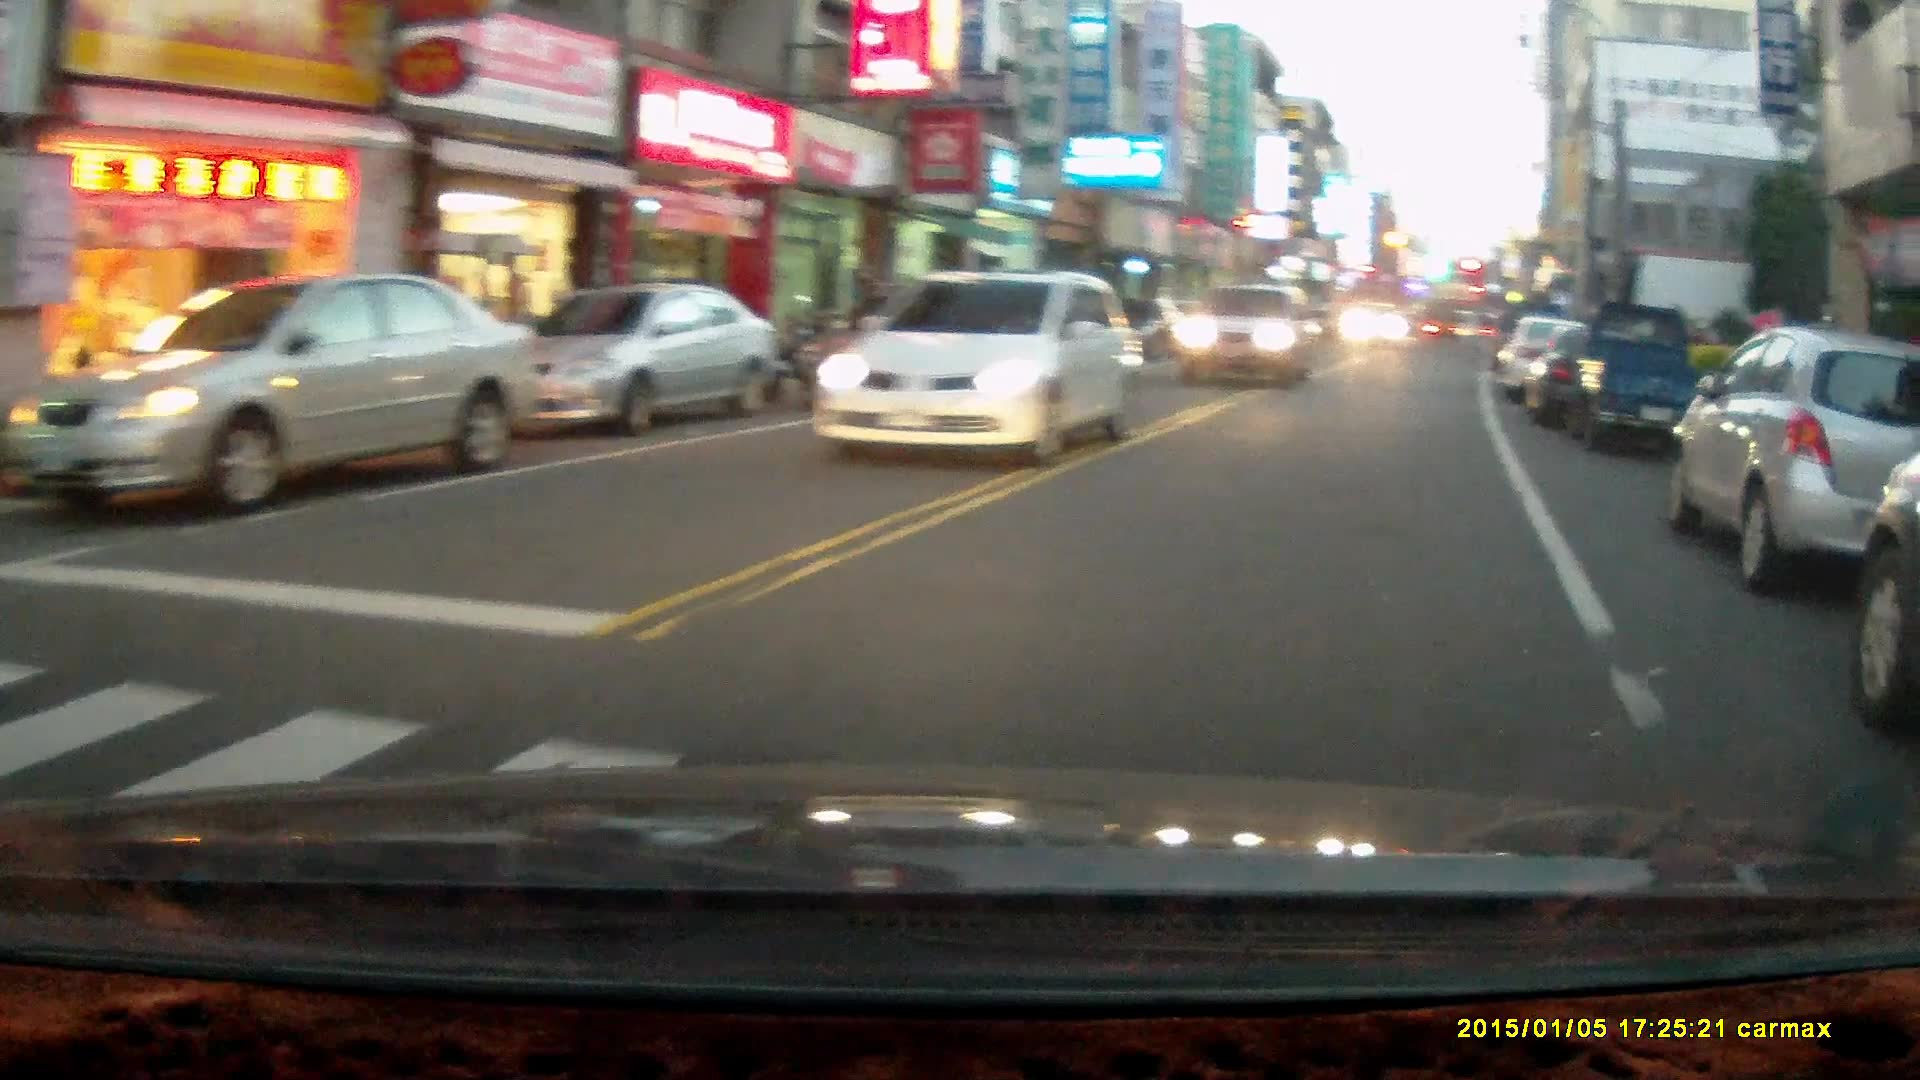vehicle: (18, 276, 549, 516), (1658, 327, 1920, 597), (808, 272, 1147, 471), (480, 281, 781, 436), (1551, 302, 1724, 458), (1179, 284, 1331, 388), (1491, 315, 1631, 411), (1342, 303, 1416, 352)
